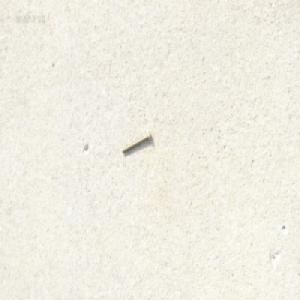Bolt: (121, 131, 151, 154)
